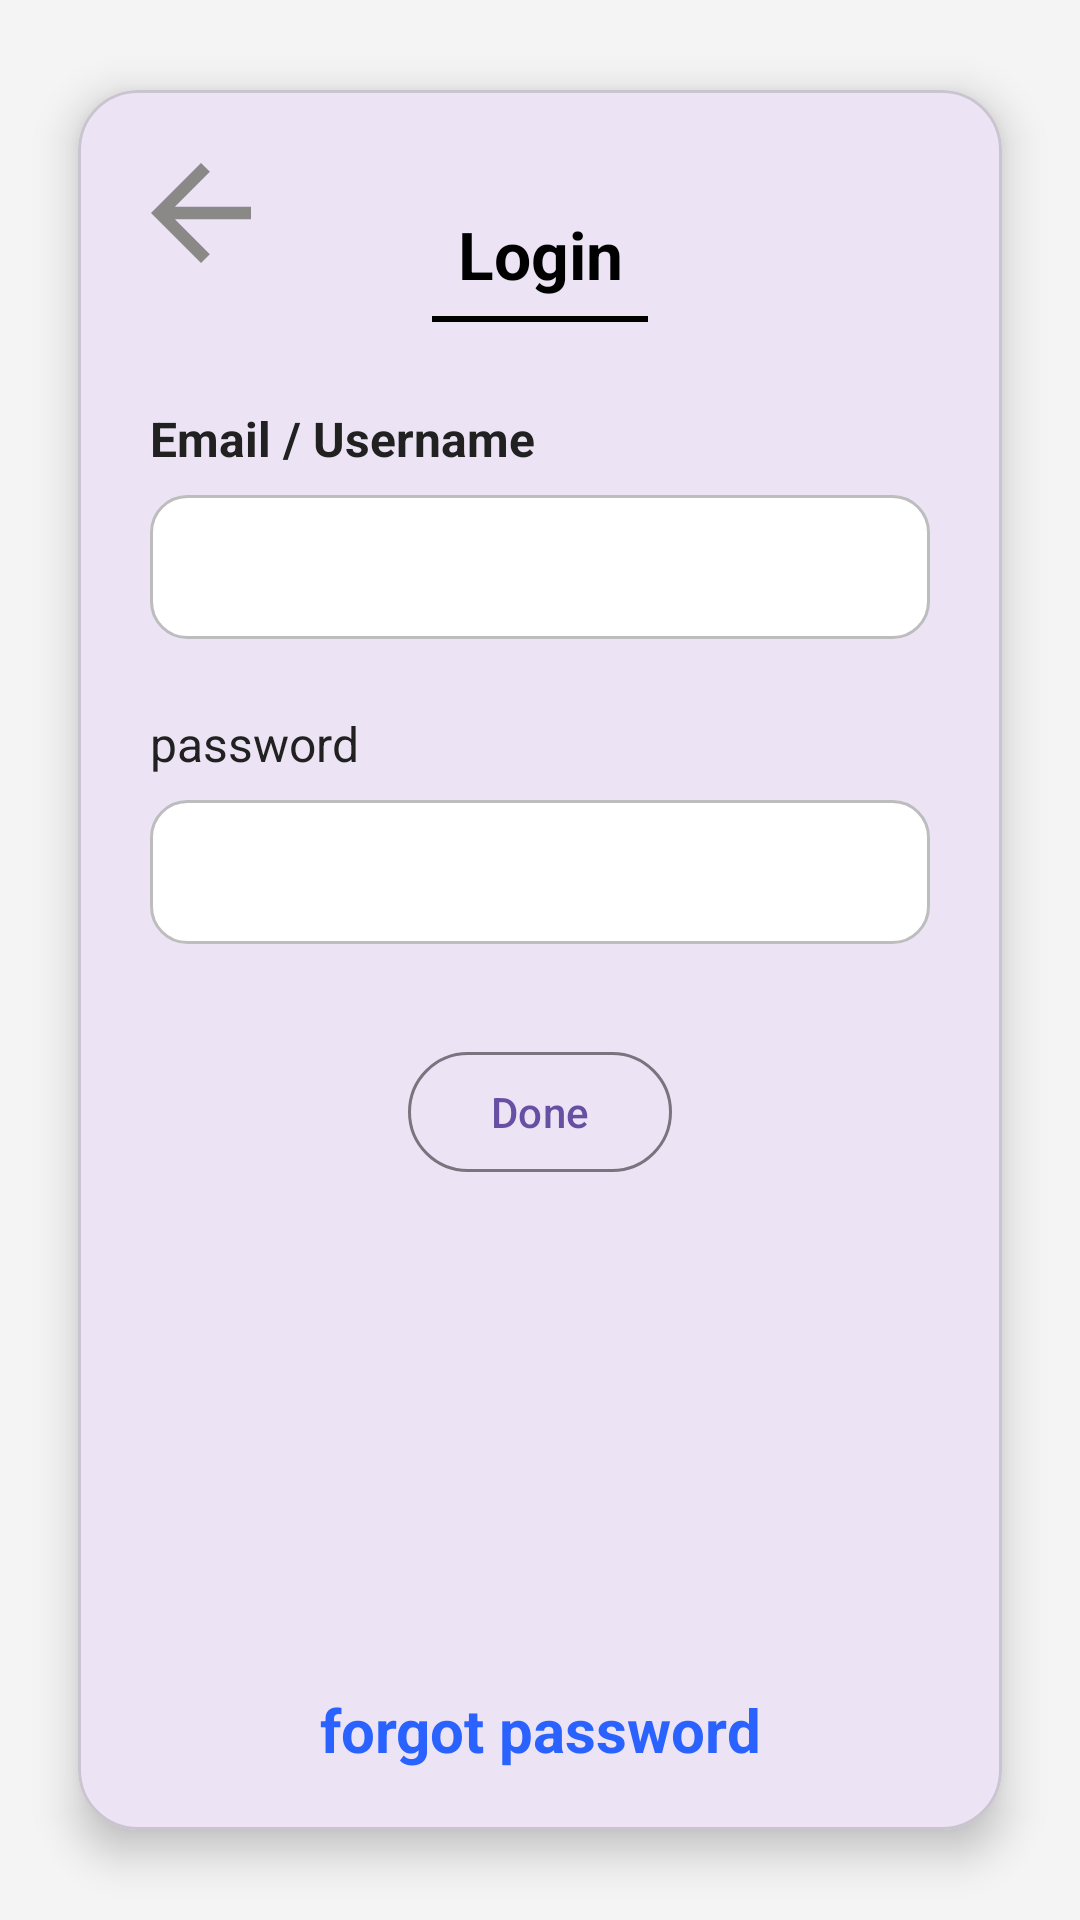

Locate icon controls on the screen. Image size 1080px×1920px, boxes as (x1, y1, x2, y2).
Back: (151, 163, 251, 263)
